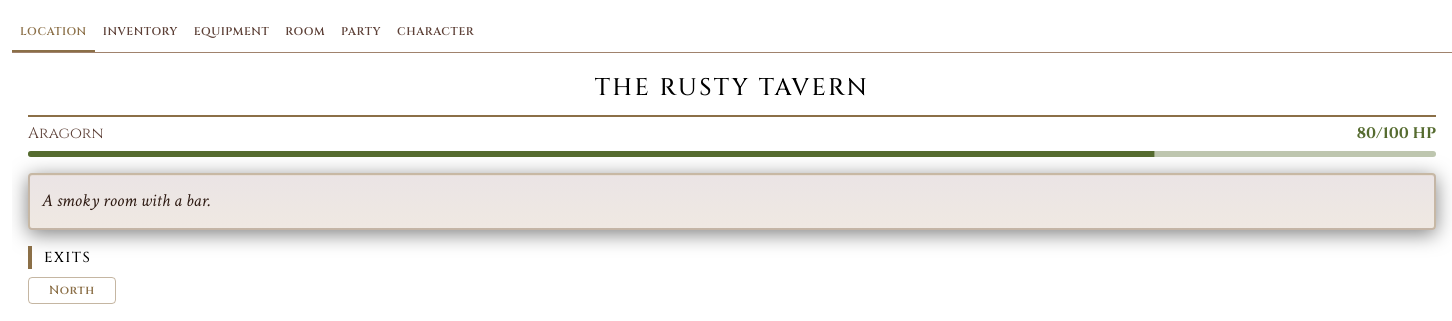
GameInfo › shows room items on Room tab
Click the tab "Room".
click(305, 32)  # box [277,12,333,52]
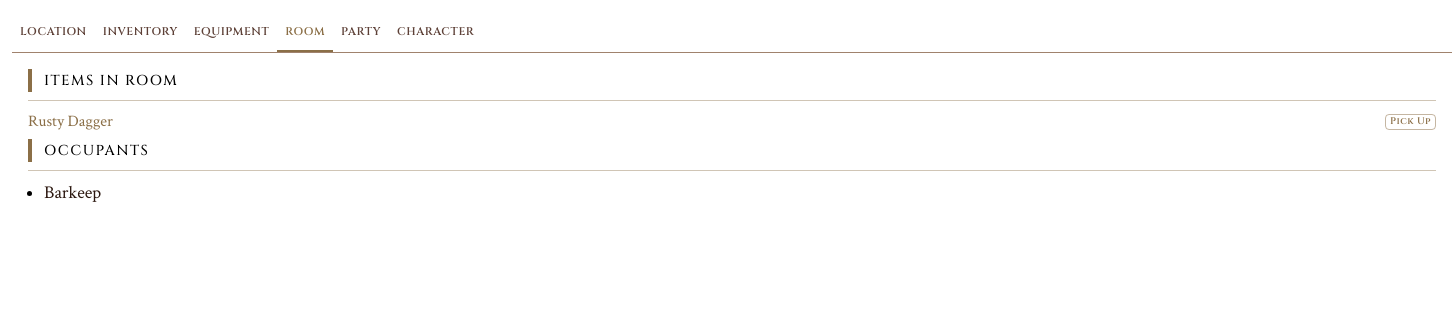
Now the text "Rusty Dagger" is shown, box [28,111,113,132]
